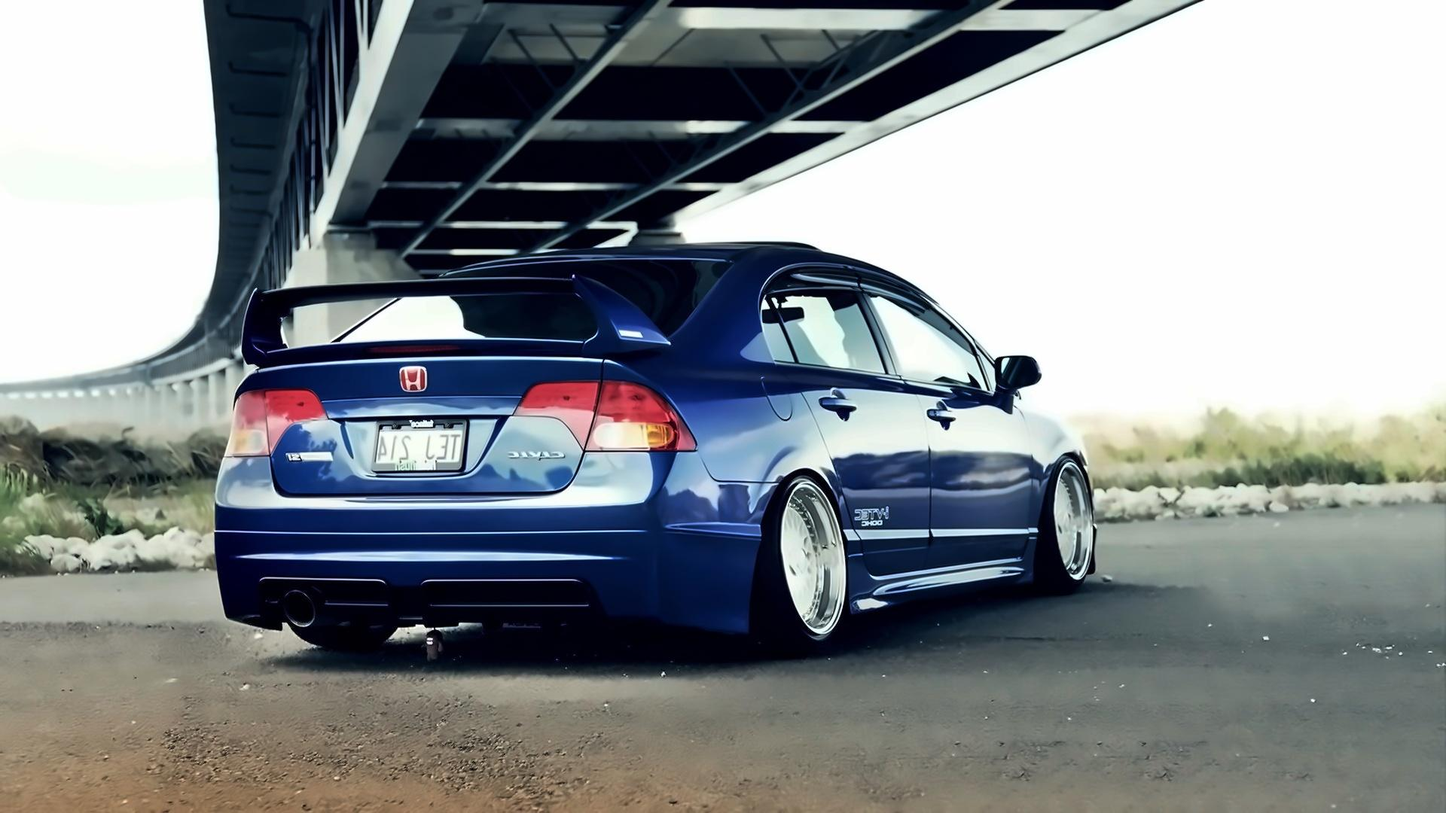Car boot: (202, 455, 783, 653), (259, 333, 610, 504)
Driver-s door - -F-R-: (874, 258, 1032, 577)
Fender - -F-R-: (1016, 384, 1085, 557)
Fender - -R-R-: (691, 345, 862, 587)
Passenger-s door - -R-R-: (761, 259, 930, 580)
Rear light - -L-: (220, 384, 333, 466)
Rear light - -R-: (511, 374, 702, 457)
Side bumper - -R-: (842, 522, 1050, 619)
Side mirror - -R-: (982, 336, 1050, 404)
